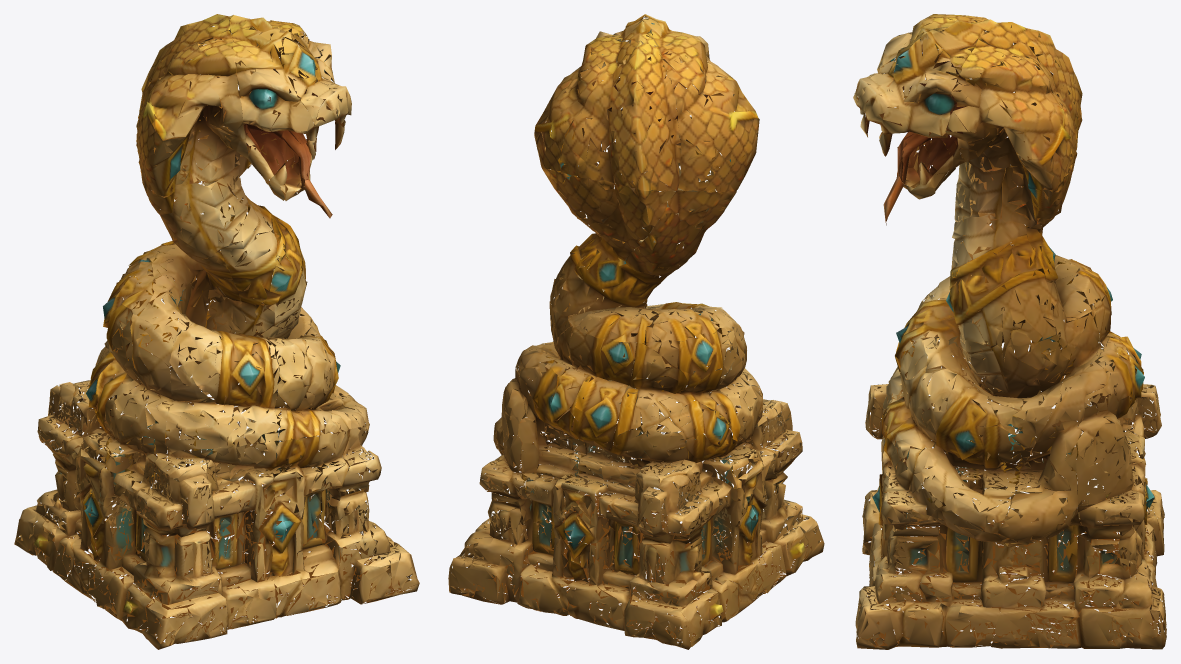
The model's file is Trap_Serpent.fbx.
The picture shows the model from 3 angles, left to right: view 1: azimuth 30°, elevation 25°; view 2: azimuth 150°, elevation 25°; view 3: azimuth 270°, elevation 25°; orthographic projection. The views are drawn at different scales.
Parts seen in each view (by area): view 1: Serpent; view 2: Serpent; view 3: Serpent.
Part boxes in pixels (x1,y1,x2,y2): Serpent: (14,14,419,649); Serpent: (448,14,824,649); Serpent: (853,14,1166,649).
Bounding box in the file's own units: 112 × 220 × 109.
Materials: 1 (1 with a texture image).
